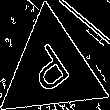P_SE: (24, 38, 79, 100)
